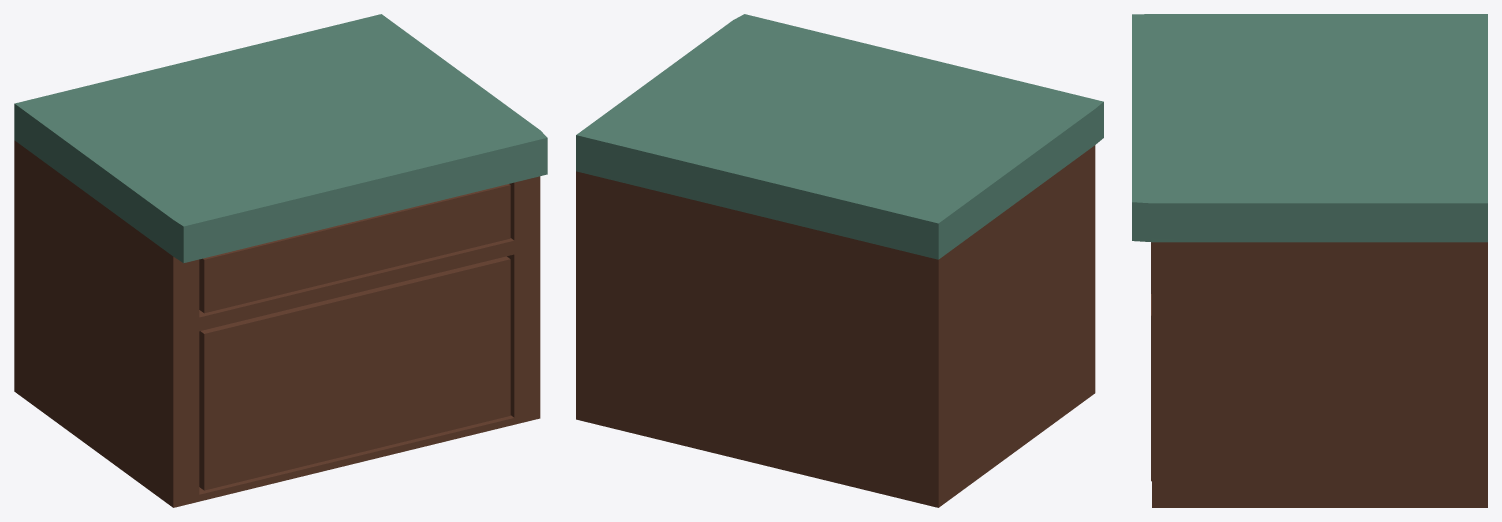
The model's file is Counter_2_Drawers.fbx.
The picture shows the model from 3 angles, left to right: view 1: azimuth 30°, elevation 25°; view 2: azimuth 150°, elevation 25°; view 3: azimuth 270°, elevation 25°; orthographic projection. The views are drawn at different scales.
Visible parts, largest first — view 1: COUNTER 2 DRAWERS; view 2: COUNTER 2 DRAWERS; view 3: COUNTER 2 DRAWERS.
Boxes of the visible parts, left/top/right/bottom form: COUNTER 2 DRAWERS: left=14, top=14, right=547, bottom=507; COUNTER 2 DRAWERS: left=576, top=14, right=1103, bottom=507; COUNTER 2 DRAWERS: left=1132, top=14, right=1487, bottom=507.
Size of the model in its own units: 100 by 75 by 79.42.
